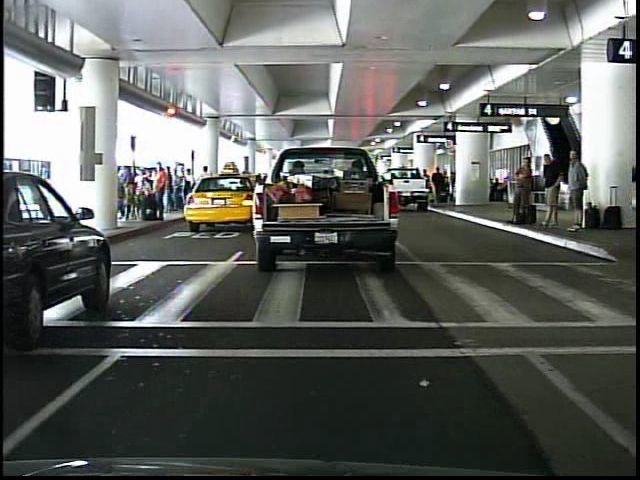person: (637, 149, 639, 234)
